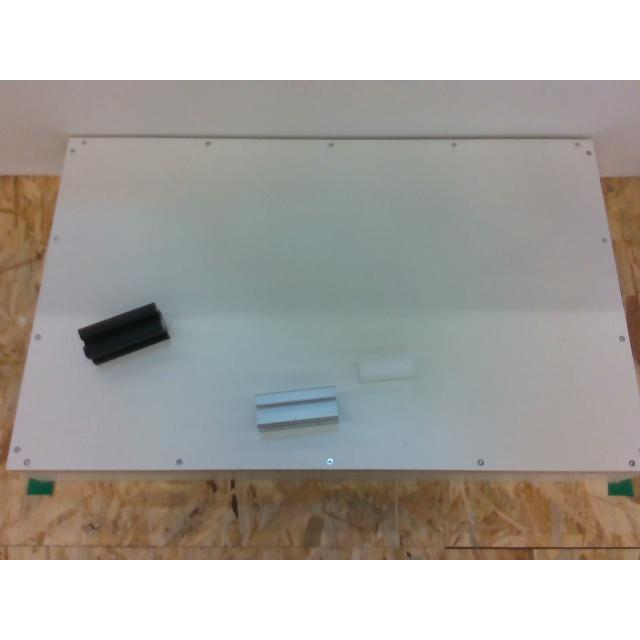S40_40_B: (78, 302, 170, 364)
S40_40_G: (255, 386, 338, 430)
Spacer: (358, 356, 414, 380)
